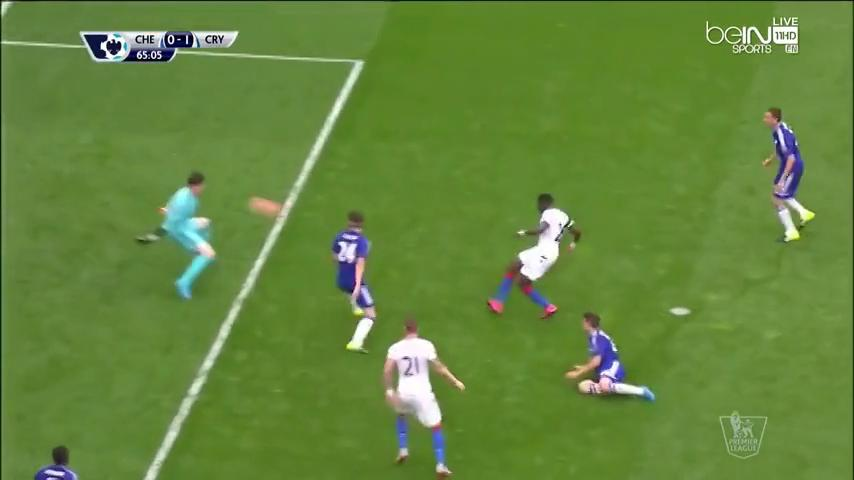football: (248, 190, 281, 221)
